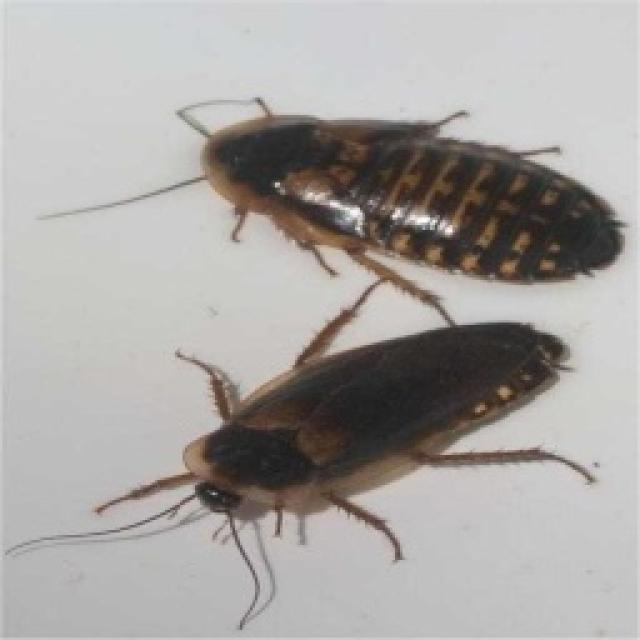cockroach: (110, 305, 575, 571), (177, 72, 628, 323)
